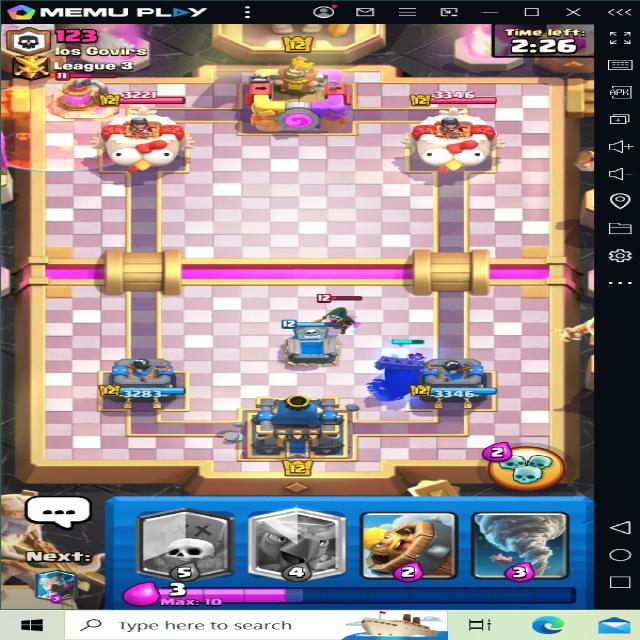bandit: (299, 299, 380, 338)
elixir-collector: (52, 70, 121, 128)
